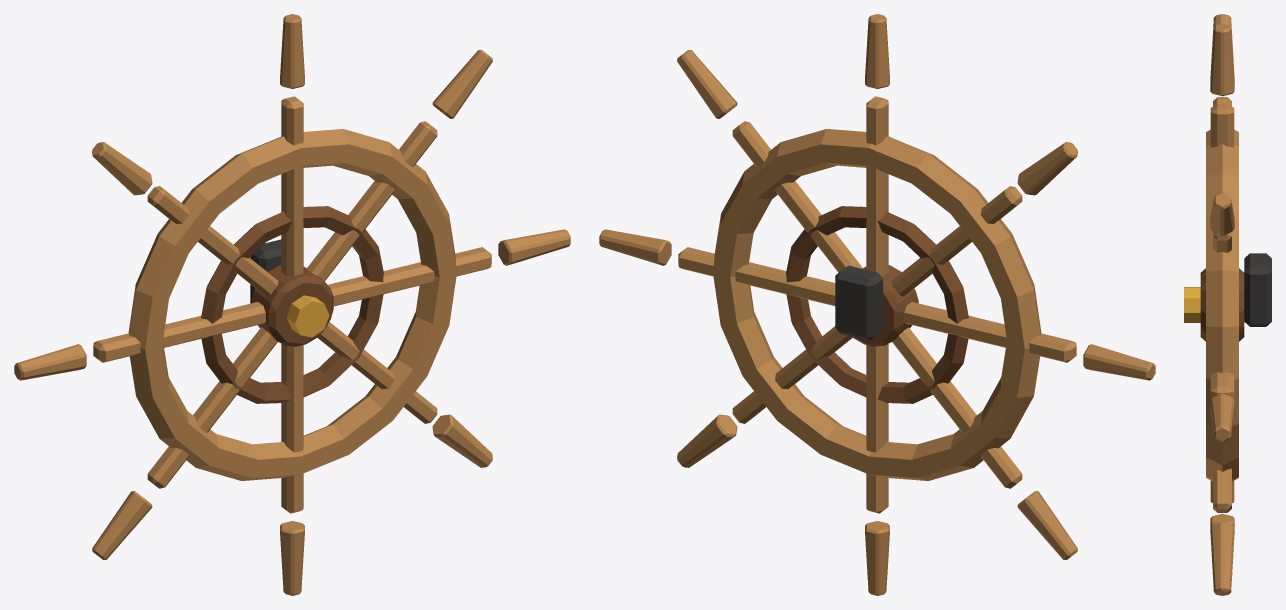
Rendered from ship_wheel_wall.glb.
The picture shows the model from 3 angles, left to right: view 1: azimuth 30°, elevation 25°; view 2: azimuth 150°, elevation 25°; view 3: azimuth 270°, elevation 25°; orthographic projection. The views are drawn at different scales.
Parts seen in each view (by area): view 1: part_wheel, ship_wheel_wall; view 2: part_wheel, ship_wheel_wall; view 3: part_wheel, ship_wheel_wall.
Boxes of the visible parts, x1,y1,x2,y2 form: part_wheel: (14, 14, 570, 595); ship_wheel_wall: (250, 239, 281, 303); part_wheel: (599, 14, 1155, 595); ship_wheel_wall: (835, 265, 882, 340); part_wheel: (1184, 14, 1244, 595); ship_wheel_wall: (1244, 253, 1271, 326).
Size of the model in its own units: 1.12 by 1.12 by 0.16.
